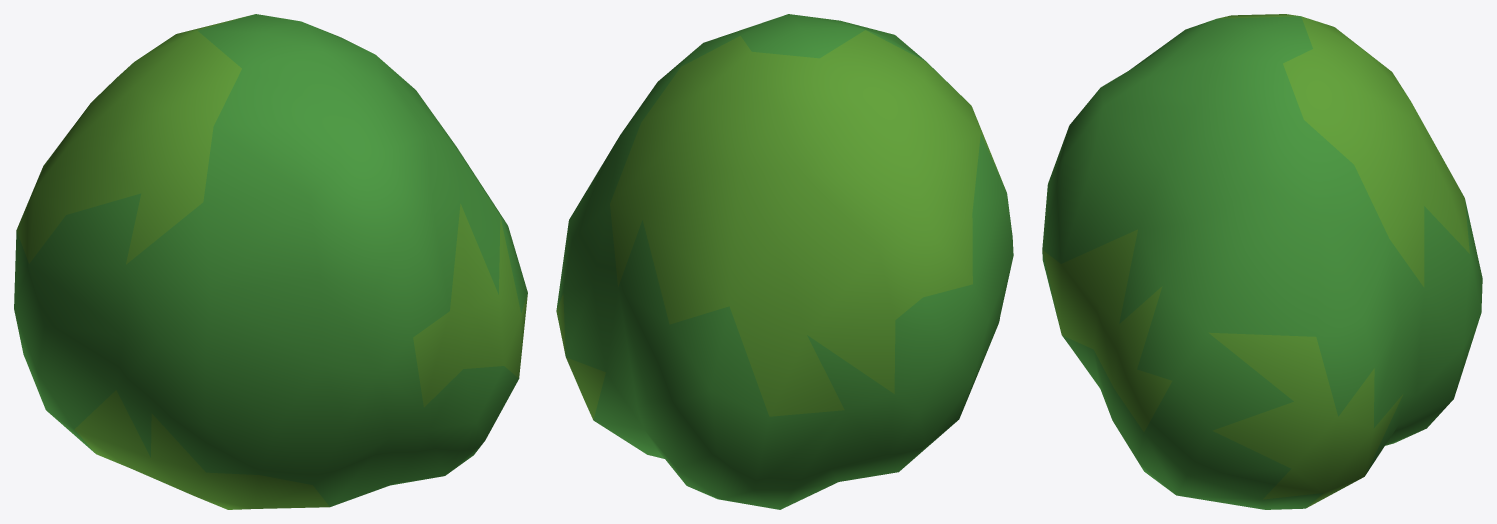
The model's file is bush_a.glb.
3 views of the same model, side by side, from view 1: azimuth 30°, elevation 25°; view 2: azimuth 150°, elevation 25°; view 3: azimuth 270°, elevation 25° (orthographic). The views are drawn at different scales.
Parts seen in each view (by area): view 1: bush_a; view 2: bush_a; view 3: bush_a.
Part boxes in pixels (box(x1,y1,x2,y2)): bush_a: box(14, 14, 527, 509); bush_a: box(556, 14, 1013, 509); bush_a: box(1042, 14, 1482, 509).
Bounding box in the file's own units: 1.17 × 1.14 × 1.12.
